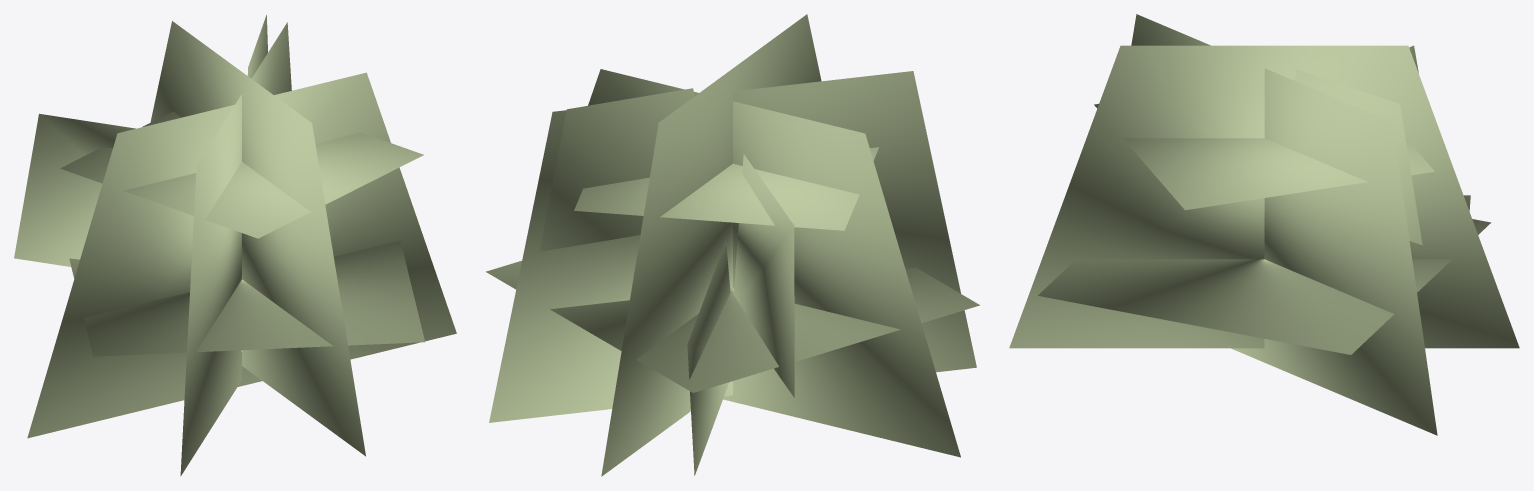
The model's file is park-canopy-two-unit-authored-atlas.glb.
The picture shows the model from 3 angles, left to right: view 1: azimuth 30°, elevation 25°; view 2: azimuth 150°, elevation 25°; view 3: azimuth 270°, elevation 25°; orthographic projection. The views are drawn at different scales.
Parts seen in each view (by area): view 1: Authored surface; view 2: Authored surface; view 3: Authored surface.
Part boxes in pixels (left/top/right/bottom): Authored surface: left=14, top=15, right=456, bottom=476; Authored surface: left=486, top=14, right=979, bottom=476; Authored surface: left=1009, top=14, right=1519, bottom=435.
Bounding box in the file's own units: 5.23 × 3.65 × 5.23.
1 material, 1 textured.
